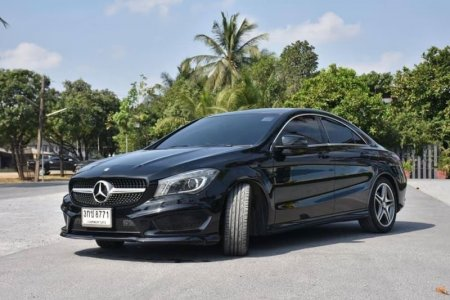sedan: (58, 108, 409, 255)
